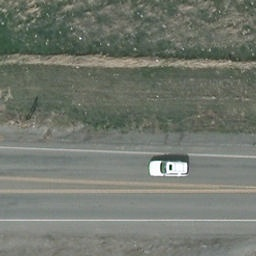car: (147, 161, 192, 176)
